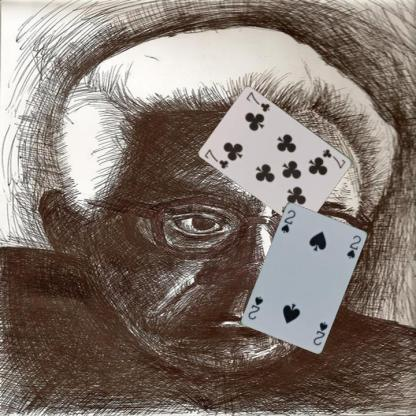2s: (311, 319, 330, 347), (278, 207, 297, 234)
7c: (202, 146, 230, 170), (320, 146, 347, 170)
